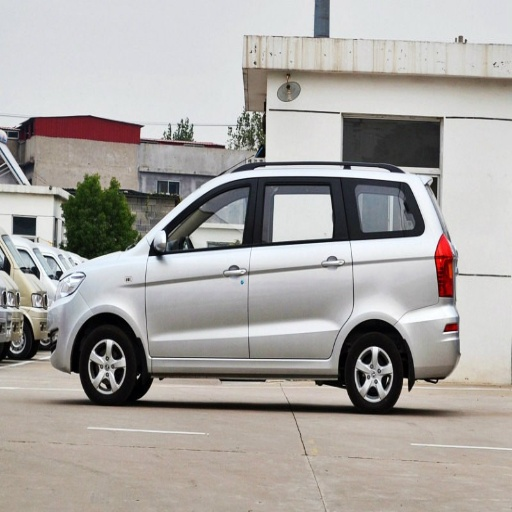back_left_door: (249, 176, 353, 359)
front_left_door: (146, 177, 256, 358)
